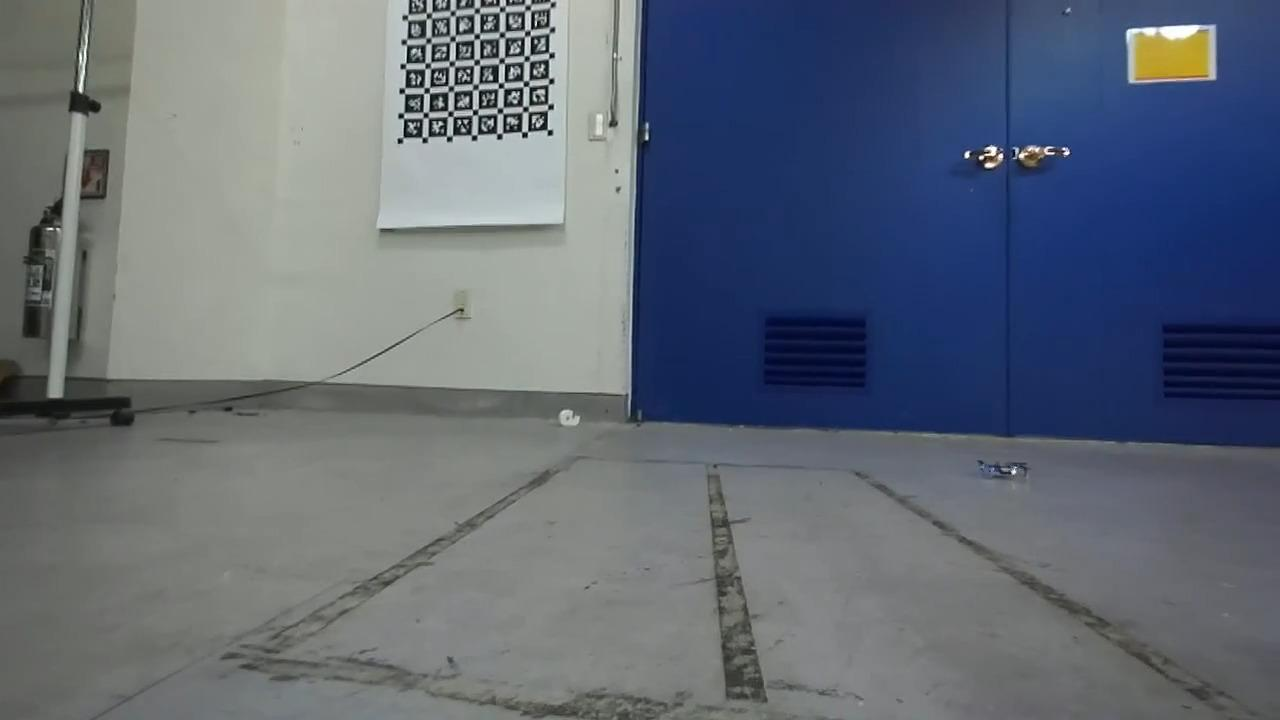crazyflie: (970, 453, 1031, 483)
